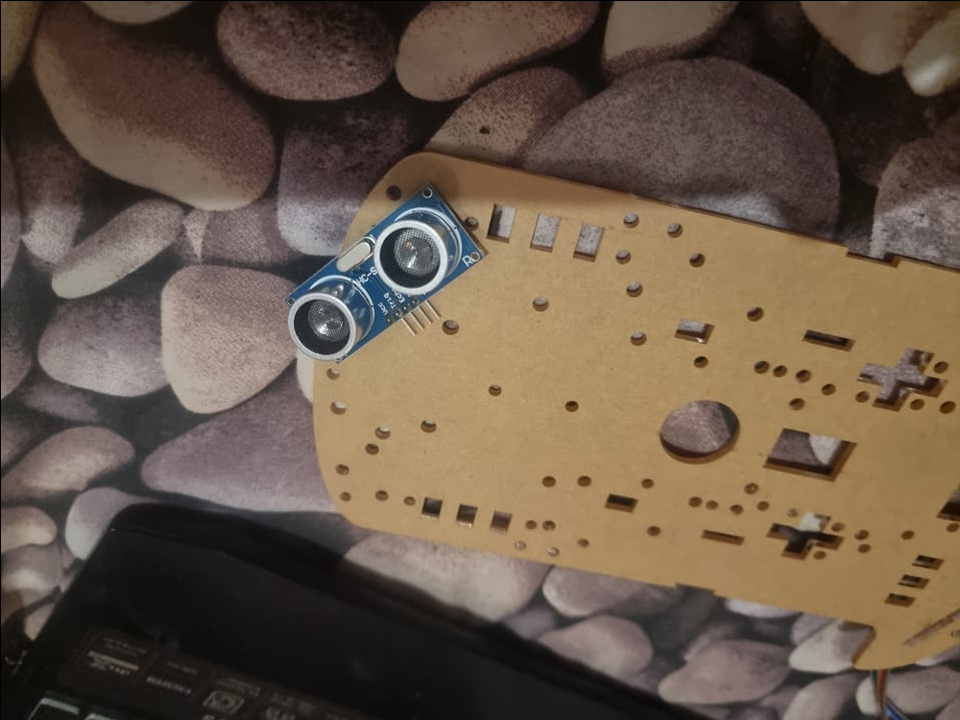SENSOR: (284, 178, 491, 362)
